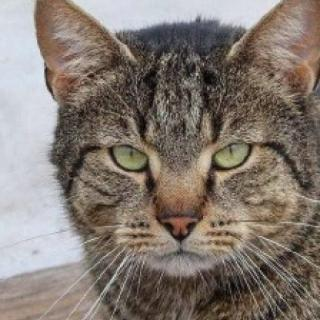cat: (35, 0, 320, 285)
nose: (150, 185, 210, 243)
